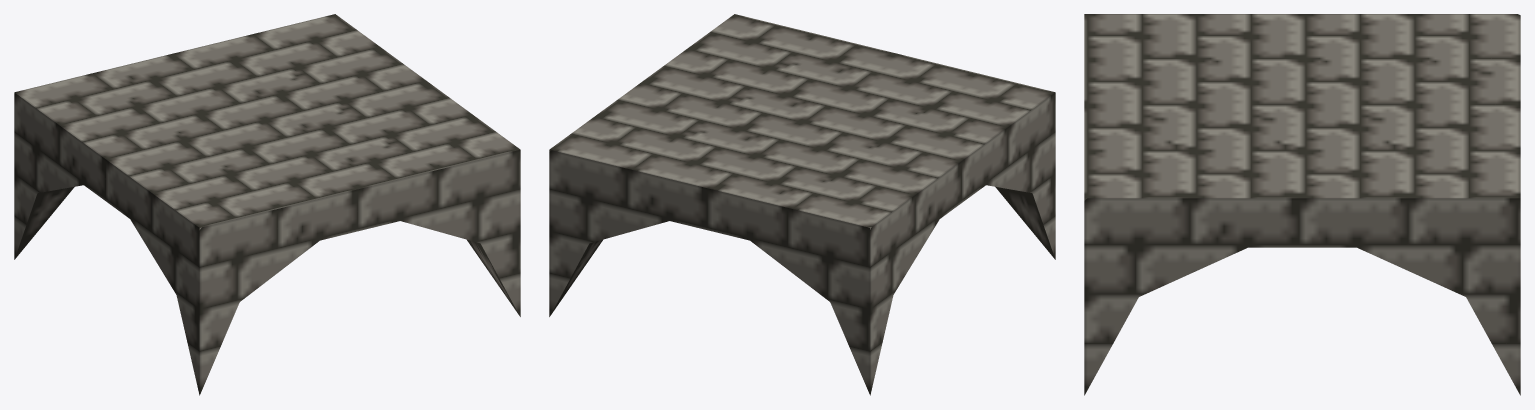
Rendered from Ceiling_Arch_Skinny_Corner.fbx.
3 views of the same model, side by side, from view 1: azimuth 30°, elevation 25°; view 2: azimuth 150°, elevation 25°; view 3: azimuth 270°, elevation 25° (orthographic). The views are drawn at different scales.
Parts seen in each view (by area): view 1: Ceiling_Arch_Skinny_Corner; view 2: Ceiling_Arch_Skinny_Corner; view 3: Ceiling_Arch_Skinny_Corner.
Boxes of the visible parts, x1,y1,x2,y2 form: Ceiling_Arch_Skinny_Corner: (14, 14, 520, 395); Ceiling_Arch_Skinny_Corner: (549, 14, 1055, 395); Ceiling_Arch_Skinny_Corner: (1084, 14, 1520, 395).
Bounding box in the file's own units: 400 × 200 × 400.
1 material, 1 textured.
